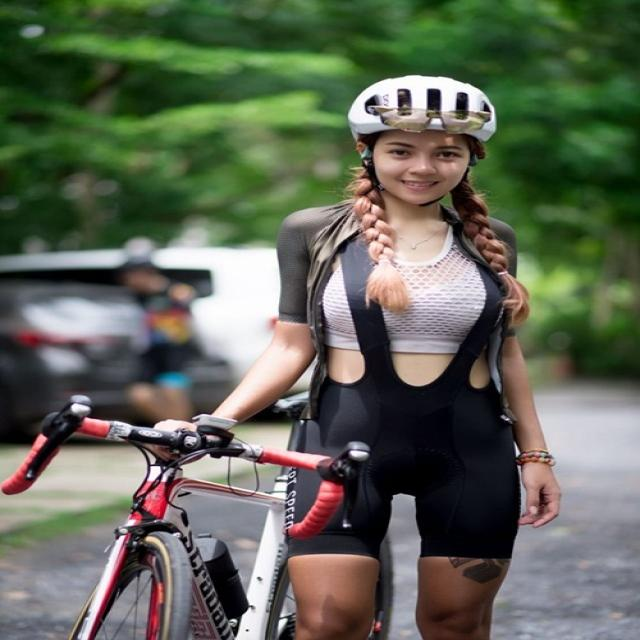Helmet: (343, 73, 499, 206)
